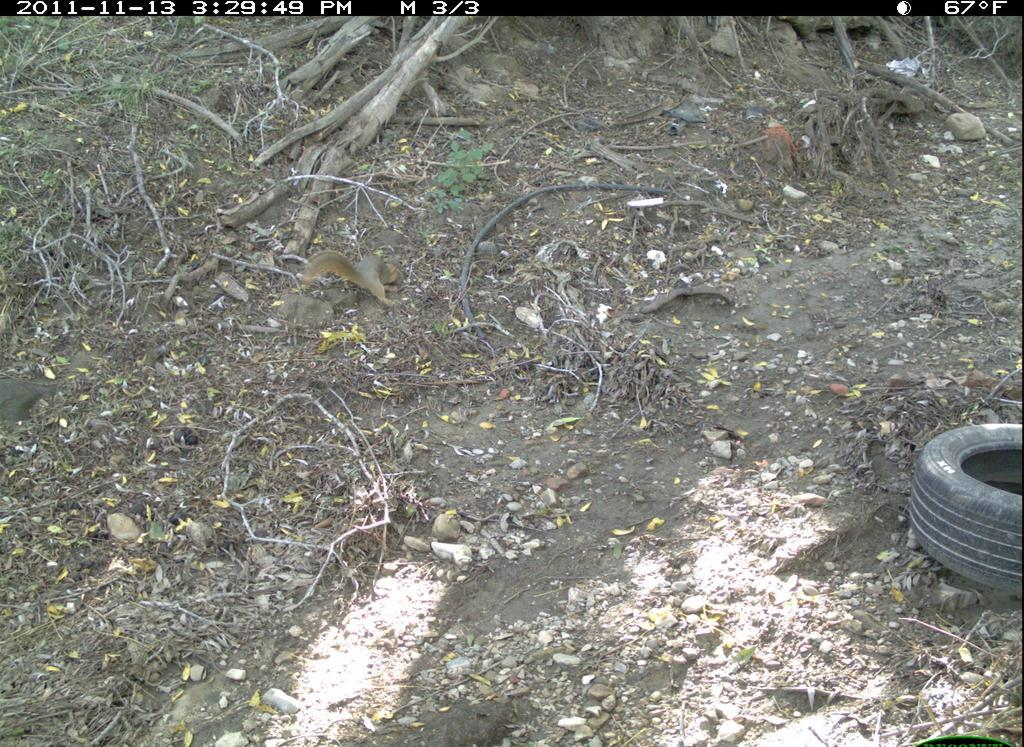squirrel: (297, 230, 413, 326)
